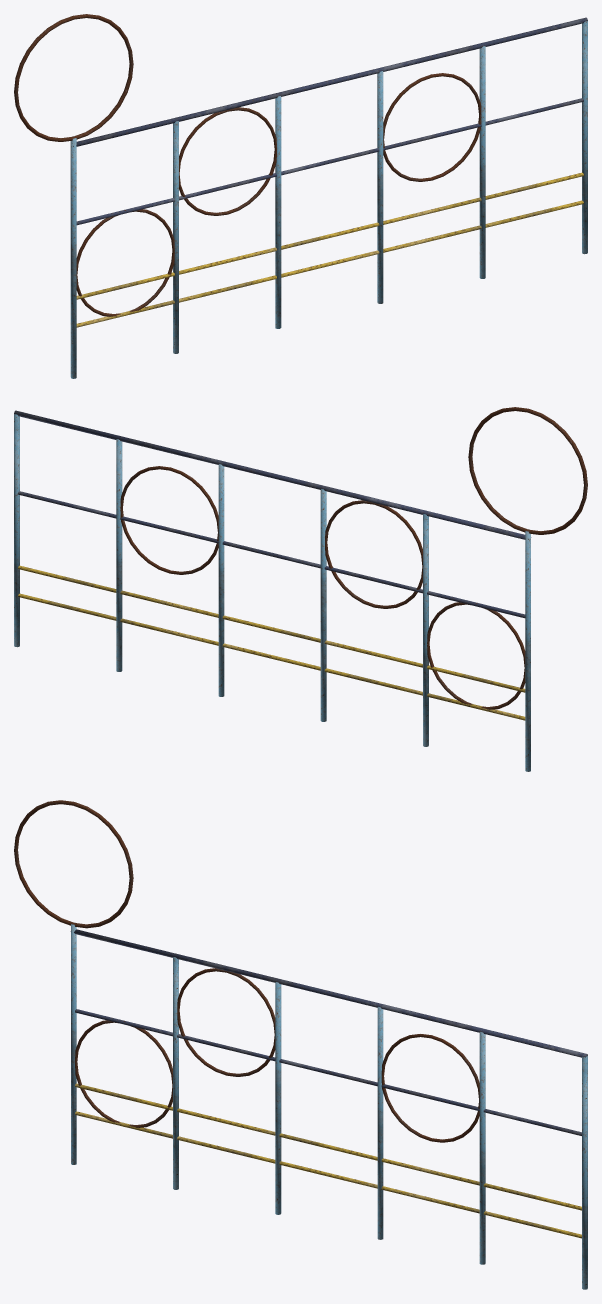
File: playground_ring_climber_lod1_web.glb
The picture shows the model from 3 angles, top to bottom: view 1: azimuth 30°, elevation 25°; view 2: azimuth 150°, elevation 25°; view 3: azimuth 330°, elevation 25°; orthographic projection.
Visible parts, largest first — view 1: RingClimber_Mesh; view 2: RingClimber_Mesh; view 3: RingClimber_Mesh.
Boxes of the visible parts, x1,y1,x2,y2 form: RingClimber_Mesh: (14, 14, 587, 378); RingClimber_Mesh: (14, 407, 587, 771); RingClimber_Mesh: (14, 800, 587, 1289).
Bounding box in the file's own units: 6.45 × 3.89 × 0.0598.
4 materials, 4 textured.
